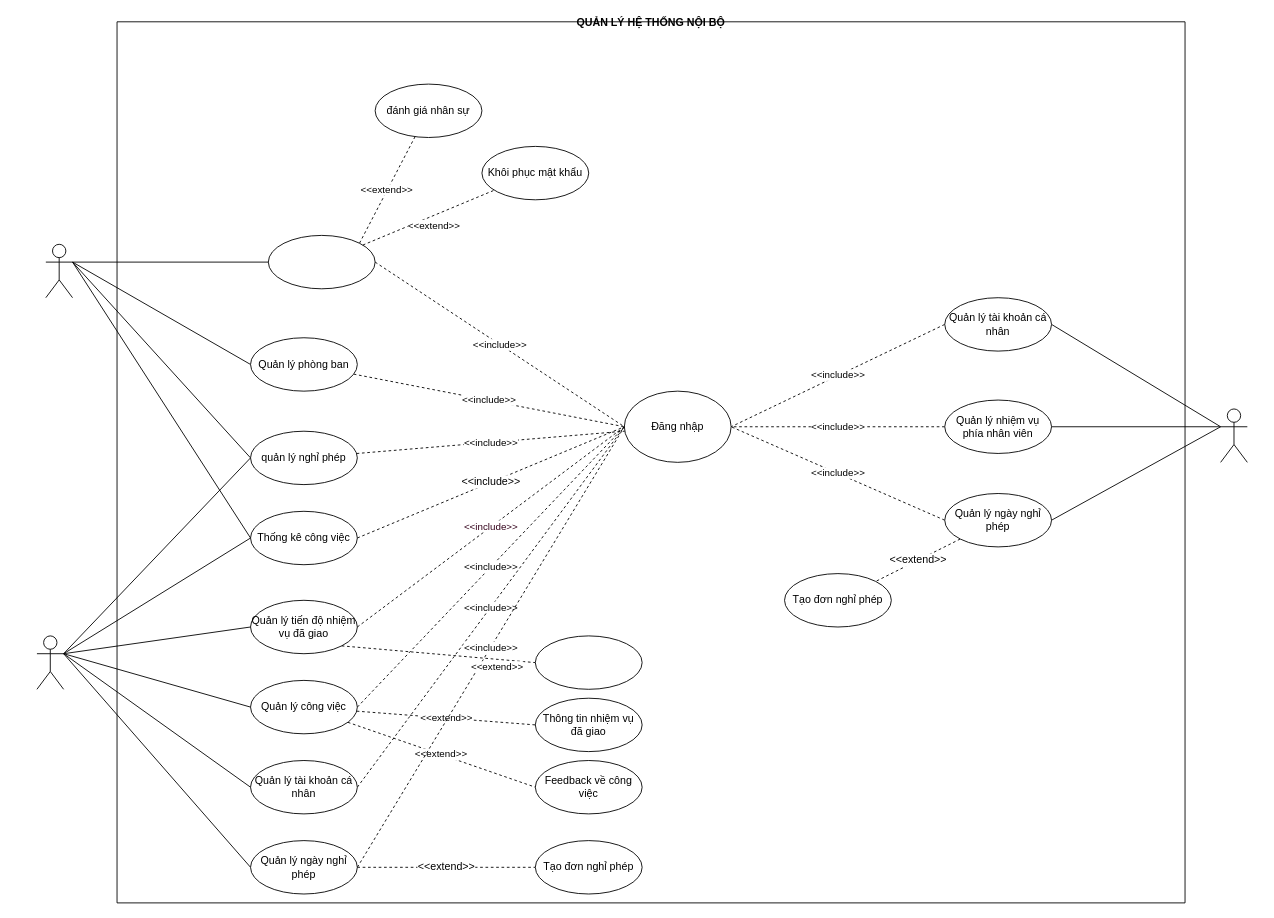
Some shapes in this 1274 by 918 pixel diagram are drawn without their labels. The shapes that lost their labels are listed below. From the top down, each one's centre as x and y in pixels, then its label:
At point 59,270: "Giám Đốc/admin".
At point 321,262: "Quản lý nhân sự".
At point 1233,435: "Nhân Viên".
At point 50,662: "Trưởng Phòng".
At point 588,662: "Feedback về tiến độ".
